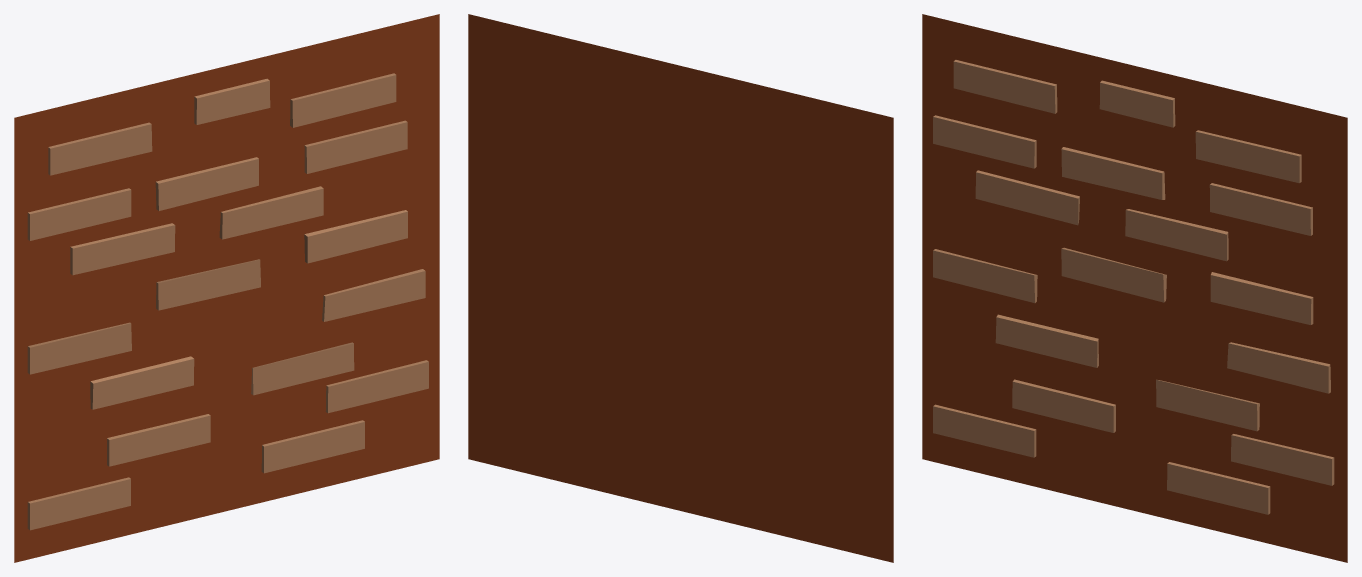
File: Ext-BrickV2.fbx
3 renders of one model, left to right at view 1: azimuth 30°, elevation 25°; view 2: azimuth 150°, elevation 25°; view 3: azimuth 330°, elevation 25°, orthographic.
Visible parts, largest first — view 1: Ext-BrickV2; view 2: Ext-BrickV2; view 3: Ext-BrickV2.
Boxes of the visible parts, <box> form: Ext-BrickV2: <box>14,14,439,562</box>; Ext-BrickV2: <box>468,14,893,562</box>; Ext-BrickV2: <box>922,14,1347,562</box>.
Bounding box in the file's own units: 200 × 200 × 2.
